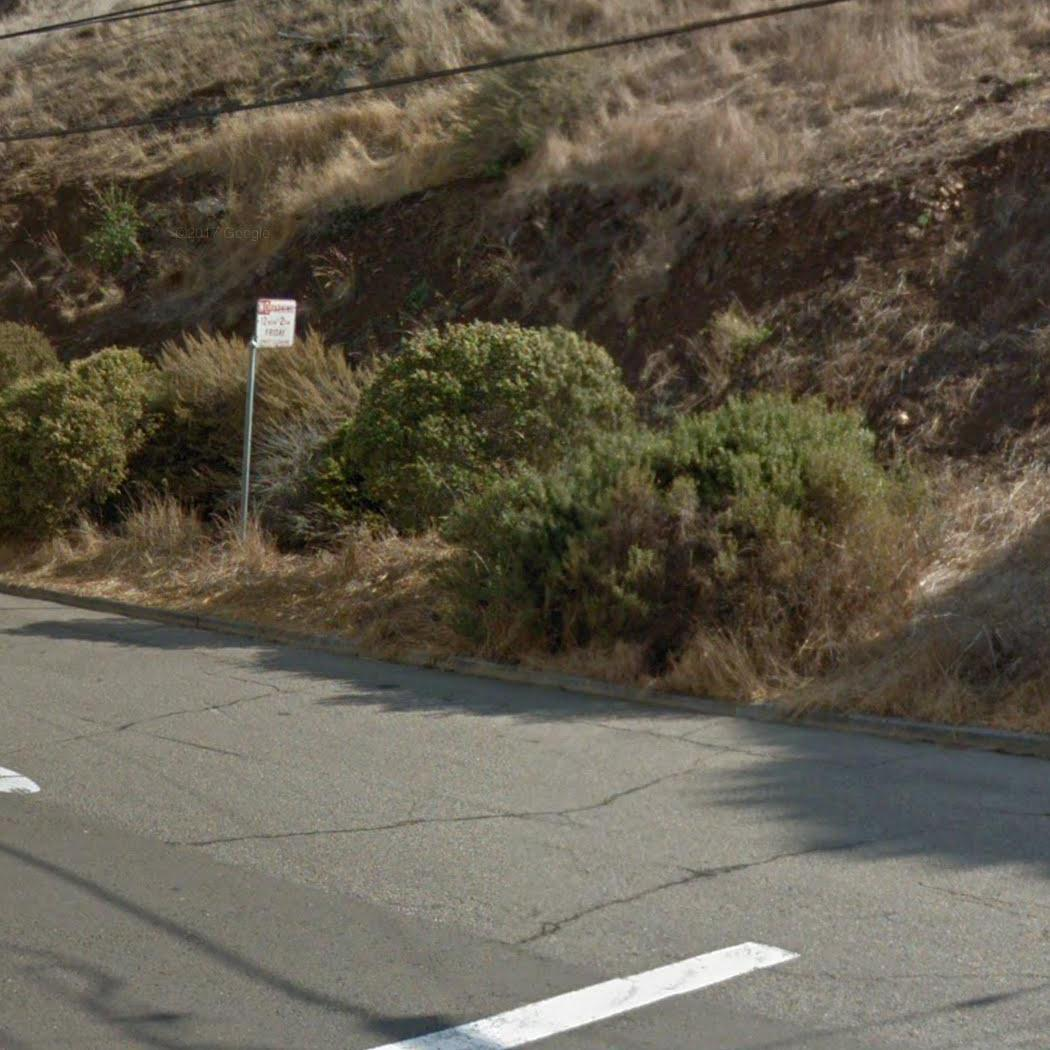No Parking: (252, 294, 300, 350)
